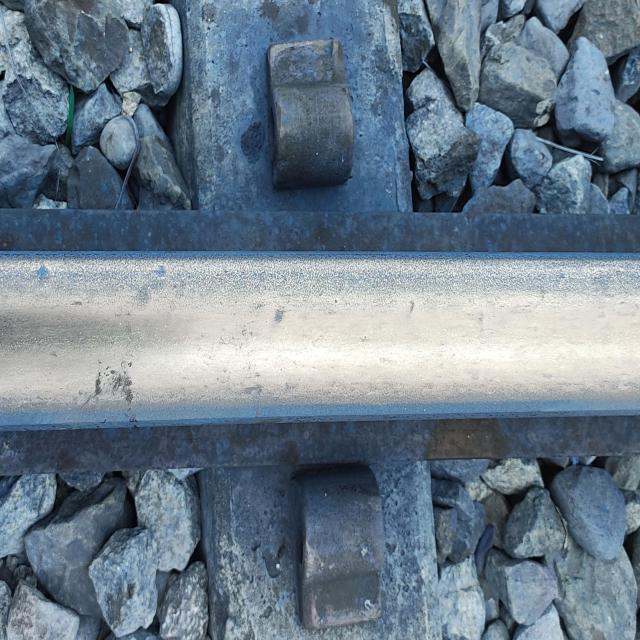Missing Fastener: (244, 450, 444, 637), (247, 25, 376, 209)
